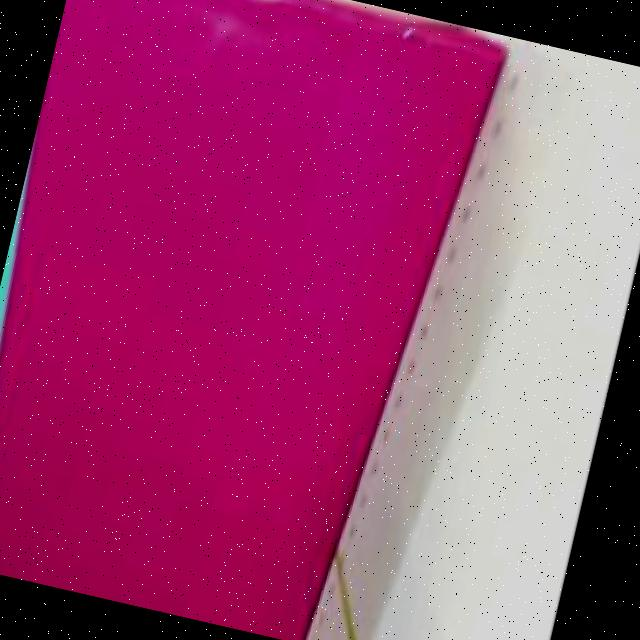xparking: (0, 0, 500, 640)
